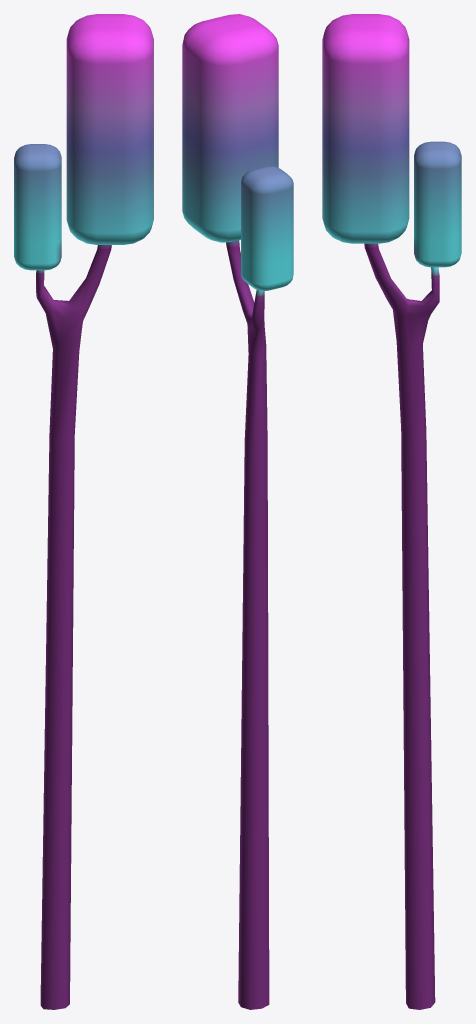
Rendered from Tree06.fbx.
The picture shows the model from 3 angles, left to right: view 1: azimuth 90°, elevation 25°; view 2: azimuth 210°, elevation 25°; view 3: azimuth 270°, elevation 25°; orthographic projection. The views are drawn at different scales.
Parts seen in each view (by area): view 1: Tree06; view 2: Tree06; view 3: Tree06.
Boxes of the visible parts, x1,y1,x2,y2 form: Tree06: (14, 14, 153, 1009); Tree06: (182, 14, 293, 1009); Tree06: (322, 14, 461, 1009).
Size of the model in its own units: 408 by 4895 by 630.
